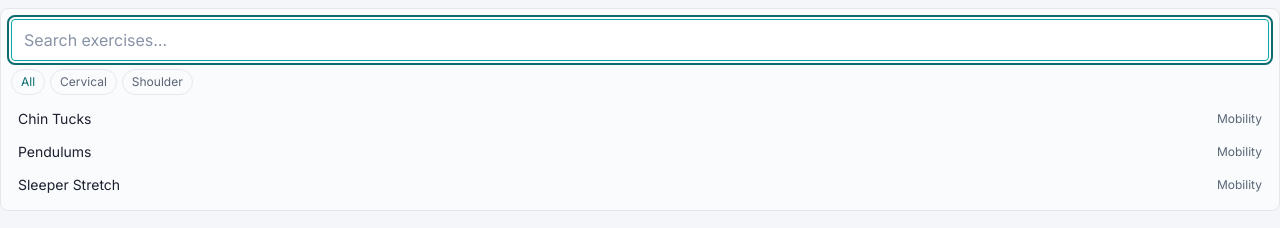
Scenario: ExercisePicker › filters by search text, case-insensitively
Type "sleeper" into the field with placeholder "Search exercises…" at (640, 40), box [11, 19, 1269, 61]
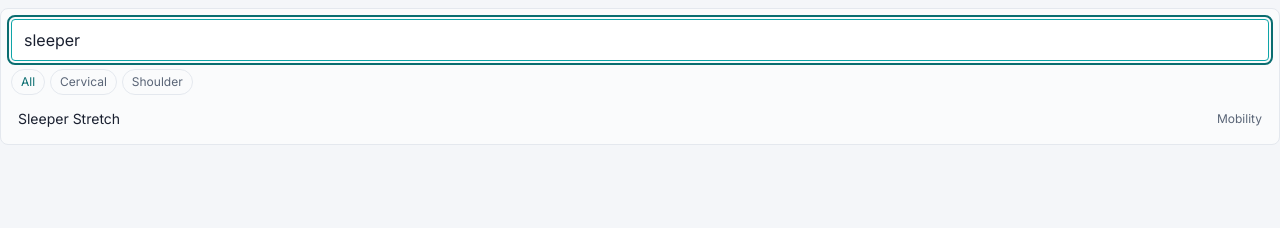
Expected: the text "Sleeper Stretch" is shown, [18, 108, 120, 129]
Now the button "Chin Tucks" is gone
